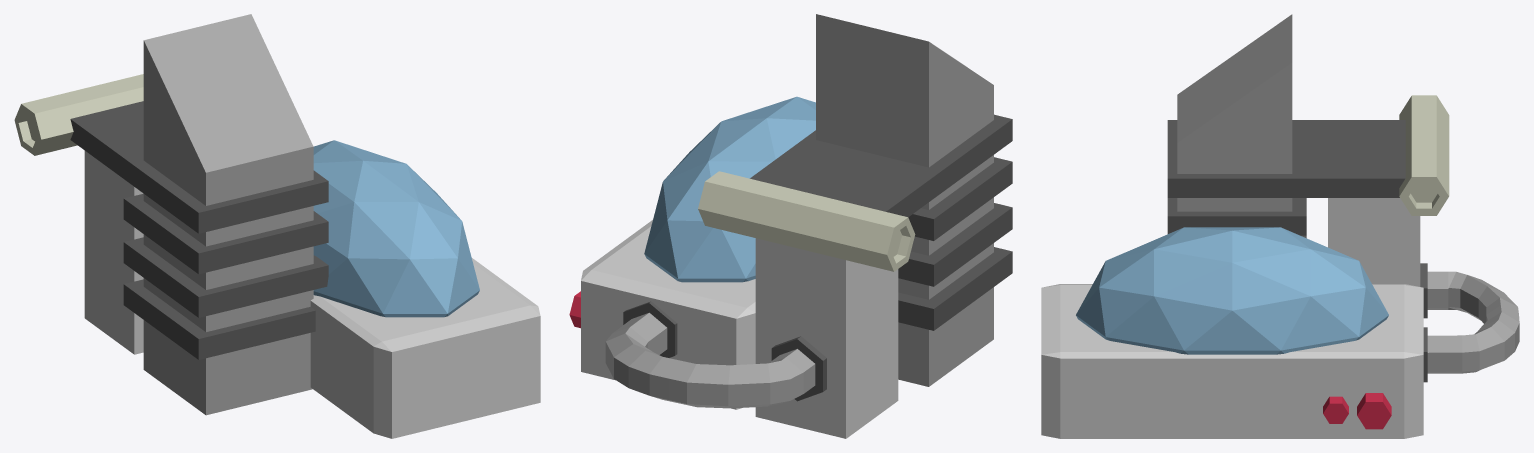
File: accumulateur.fbx
3 renders of one model, left to right at view 1: azimuth 30°, elevation 25°; view 2: azimuth 150°, elevation 25°; view 3: azimuth 270°, elevation 25°, orthographic. The views are drawn at different scales.
Parts seen in each view (by area): view 1: Cube.001, Cube, Icosphere, Cube.003, Cube.006, Cube.002, Cube.004, Cube.005, Cylinder.002; view 2: Cube.001, Cube.006, Icosphere, Cube, Cylinder.002, Cube.003, Cylinder.003, Cube.005, Cube.004, Cube.002, Cylinder.005, Cylinder.004; view 3: Cube, Icosphere, Cube.001, Cube.003, Cylinder.003, Cube.006, Cylinder.002, Cube.002, Cylinder.001, Cylinder.
Boxes of the visible parts, x1,y1,x2,y2 form: Cube.001: (143, 14, 313, 415); Cube: (310, 258, 540, 438); Icosphere: (313, 140, 479, 317); Cube.003: (70, 101, 328, 233); Cube.006: (84, 151, 143, 354); Cube.002: (123, 193, 328, 274); Cube.004: (123, 237, 328, 317); Cube.005: (123, 279, 315, 359); Cylinder.002: (14, 74, 143, 155); Cube.001: (816, 14, 993, 386); Cube.006: (755, 238, 898, 438); Icosphere: (644, 96, 815, 282); Cube: (581, 220, 755, 409); Cylinder.002: (698, 171, 915, 271); Cube.003: (750, 114, 1012, 217); Cylinder.003: (605, 312, 815, 408); Cube.005: (898, 247, 1012, 330); Cube.004: (898, 203, 1012, 286); Cube.002: (908, 157, 1012, 240); Cylinder.005: (771, 336, 826, 401); Cylinder.004: (623, 301, 677, 357); Cube: (1041, 284, 1423, 438); Icosphere: (1076, 227, 1388, 354); Cube.001: (1177, 14, 1292, 211); Cube.003: (1167, 120, 1405, 197); Cylinder.003: (1427, 271, 1519, 373); Cube.006: (1328, 198, 1420, 286); Cylinder.002: (1399, 95, 1449, 215); Cube.002: (1167, 198, 1306, 235); Cylinder.001: (1357, 393, 1391, 429); Cylinder: (1323, 396, 1348, 423).
Bounding box in the file's own units: 405 × 384 × 542.
